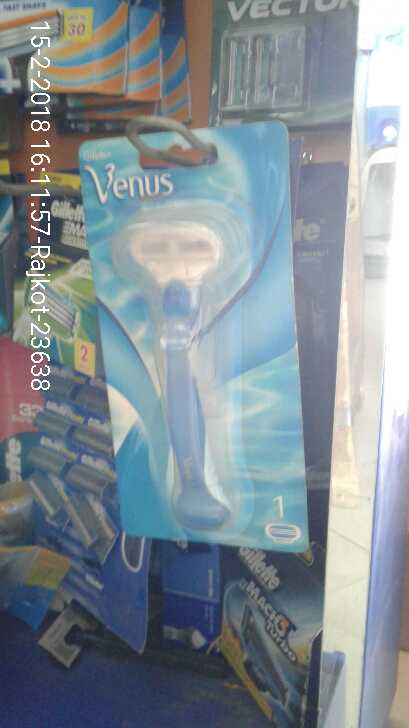beauty: (83, 140, 311, 539), (214, 539, 329, 722)
